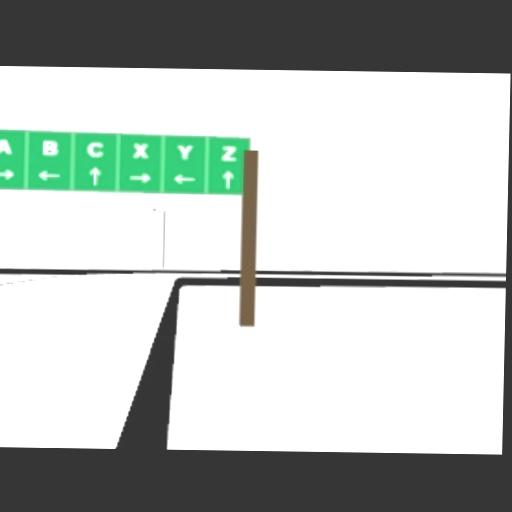A: (0, 136, 12, 153)
B: (41, 138, 56, 153)
C: (86, 139, 103, 156)
Left: (173, 173, 195, 183), (37, 169, 59, 179)
Right: (128, 171, 150, 181), (0, 168, 14, 178)
Straight: (89, 166, 101, 183), (221, 170, 233, 187)
X: (132, 142, 147, 157)
Y: (177, 143, 192, 158)
Z: (220, 144, 235, 159)
